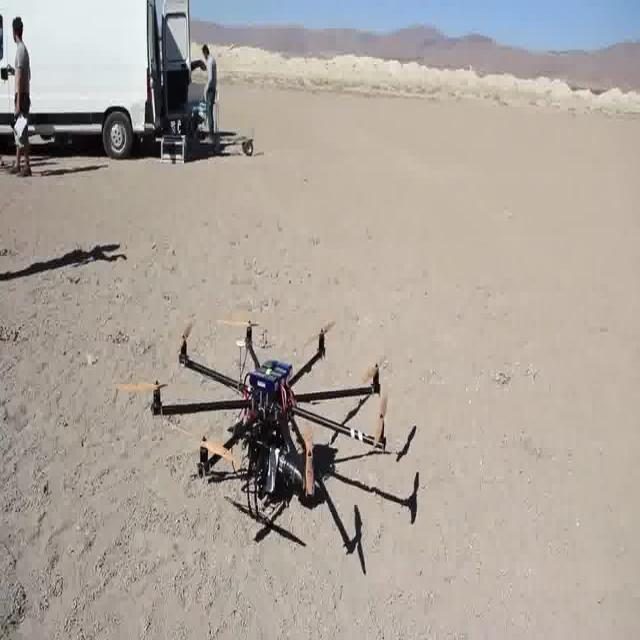drone: (110, 290, 410, 528)
